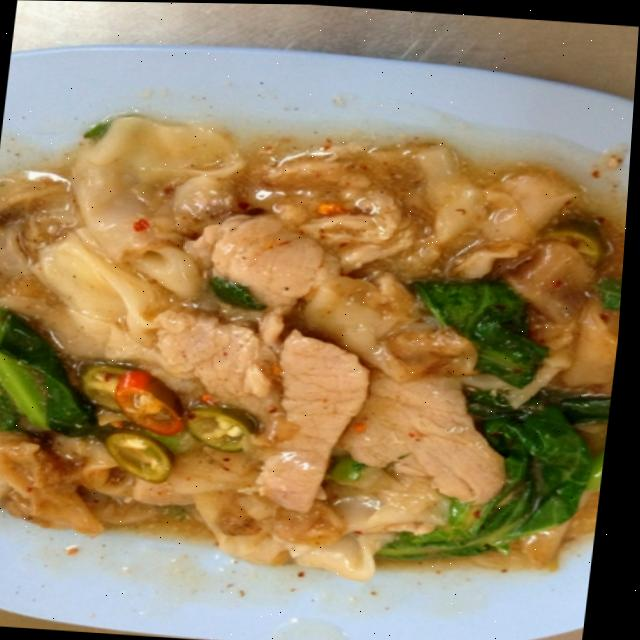面条主食: (0, 43, 638, 634)
